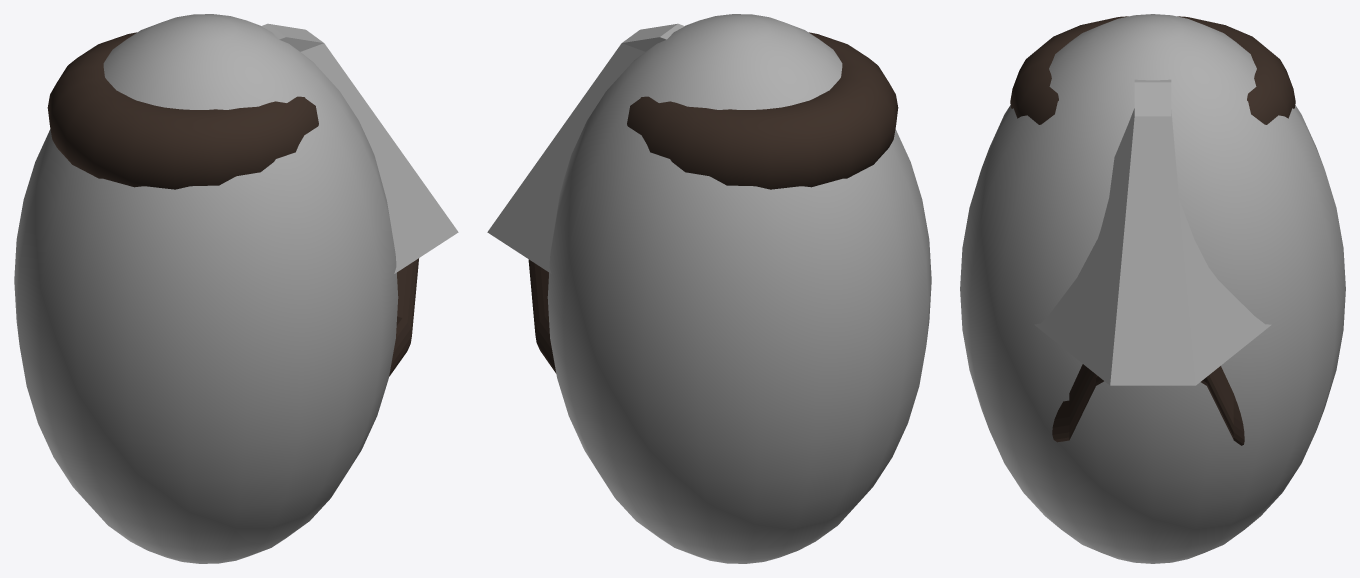
File: CharNoseBrownCalvasMustache.fbx
3 views of the same model, side by side, from view 1: azimuth 30°, elevation 25°; view 2: azimuth 150°, elevation 25°; view 3: azimuth 270°, elevation 25° (orthographic).
Visible parts, largest first — view 1: pTorus3; view 2: pTorus3; view 3: pTorus3.
Part boxes in pixels (<box>): pTorus3: <box>14,14,458,563</box>; pTorus3: <box>487,14,931,563</box>; pTorus3: <box>960,14,1345,563</box>.
Size of the model in its own units: 3.43 by 4.32 by 2.88.
